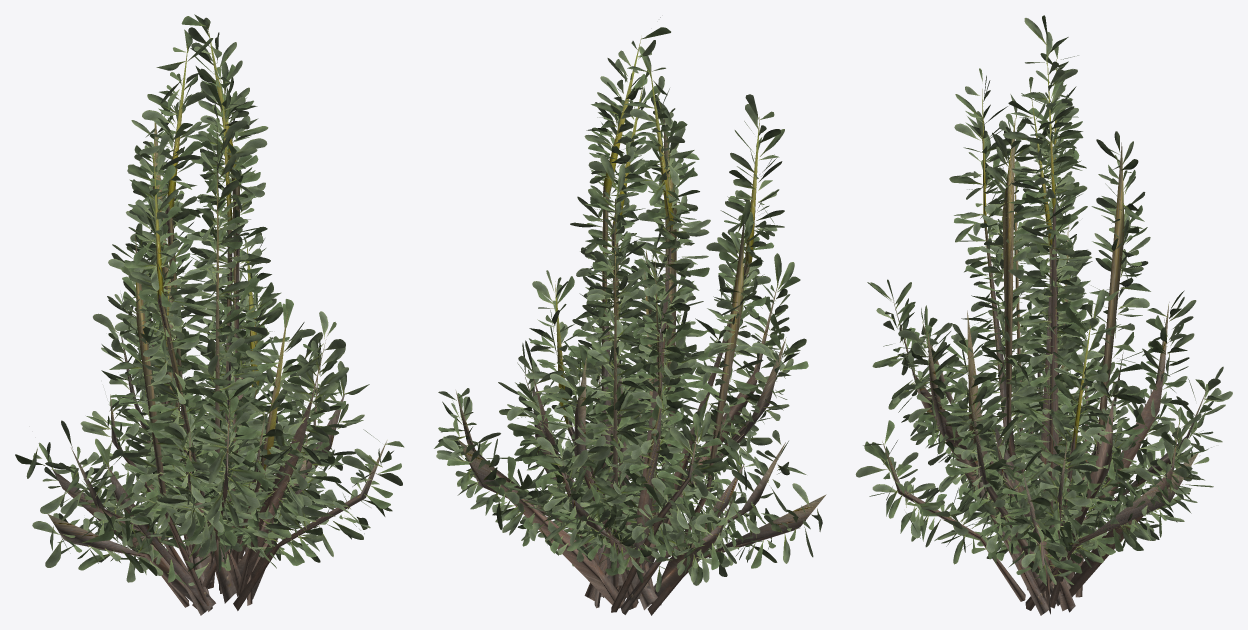
File: othonna_cerarioides_b.gltf
The picture shows the model from 3 angles, left to right: view 1: azimuth 30°, elevation 25°; view 2: azimuth 150°, elevation 25°; view 3: azimuth 270°, elevation 25°; orthographic projection. The views are drawn at different scales.
Visible parts, largest first — view 1: othonna_cerarioides_b__x; view 2: othonna_cerarioides_b__x; view 3: othonna_cerarioides_b__x.
Boxes of the visible parts, <box> form: othonna_cerarioides_b__x: <box>15,14,404,615</box>; othonna_cerarioides_b__x: <box>434,17,826,615</box>; othonna_cerarioides_b__x: <box>855,15,1232,615</box>.
Size of the model in its own units: 0.9891 by 1.77 by 1.05.
2 materials, 2 textured.
